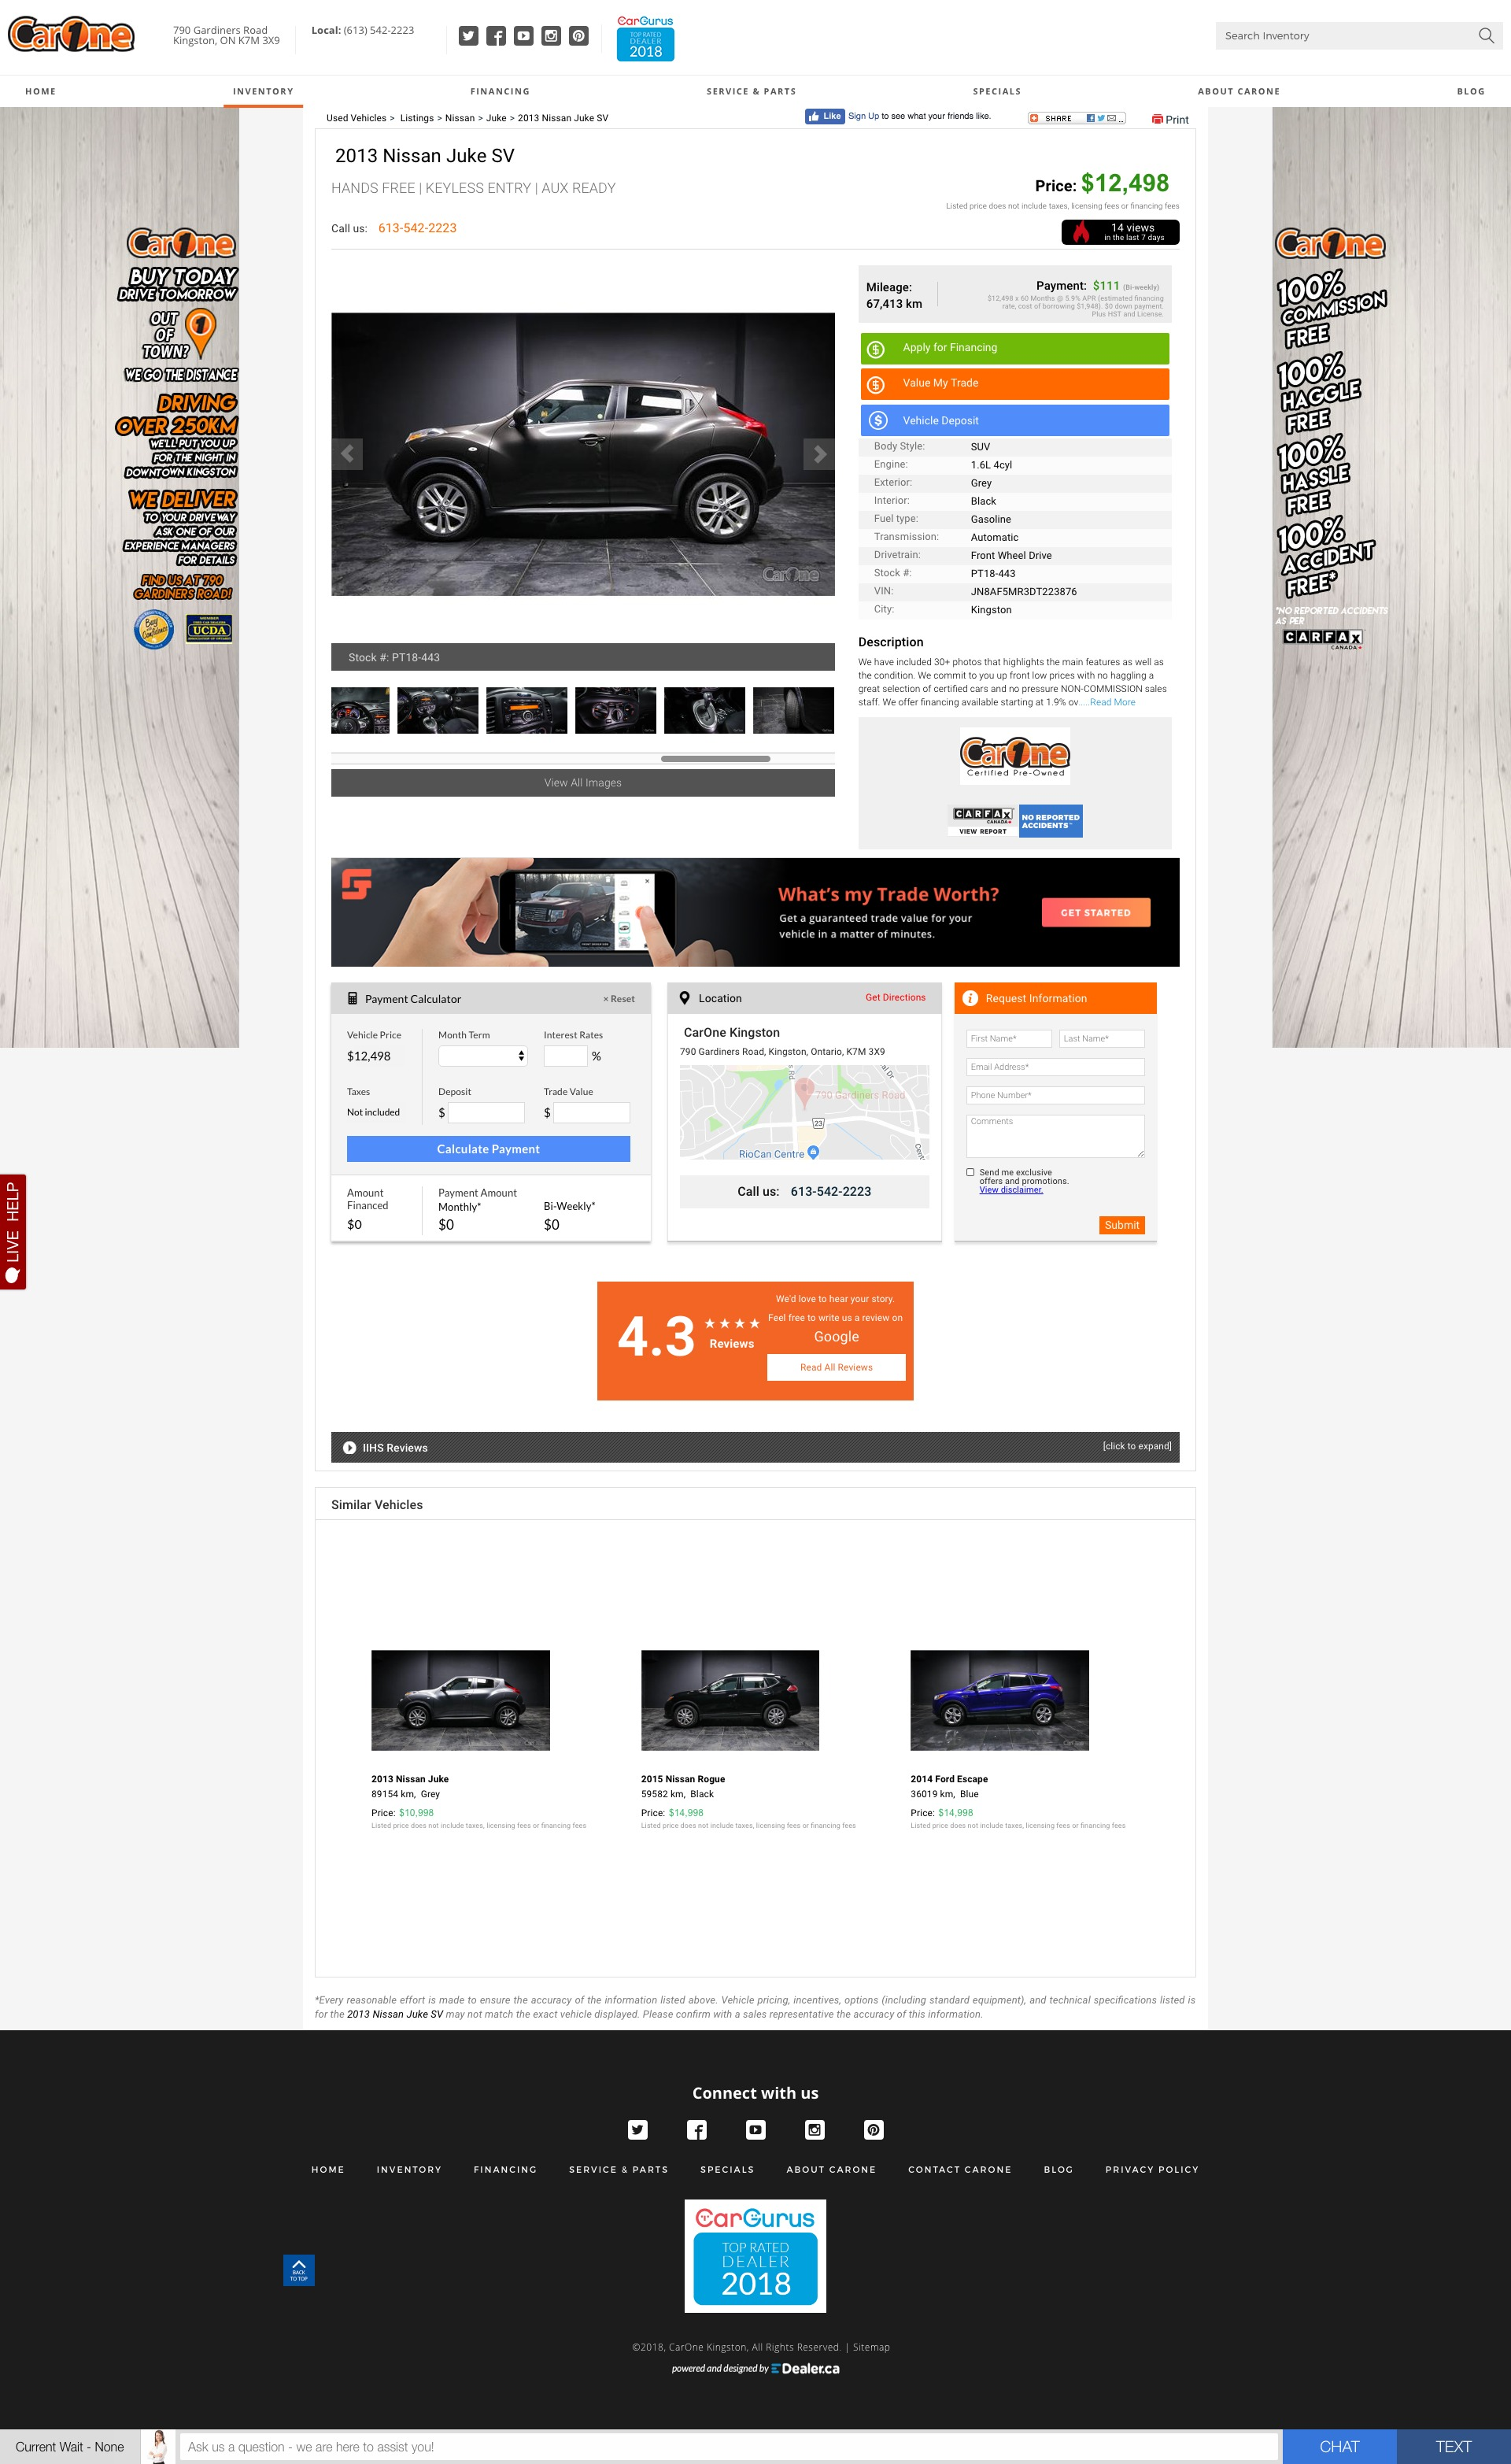car: (800, 438, 837, 473)
